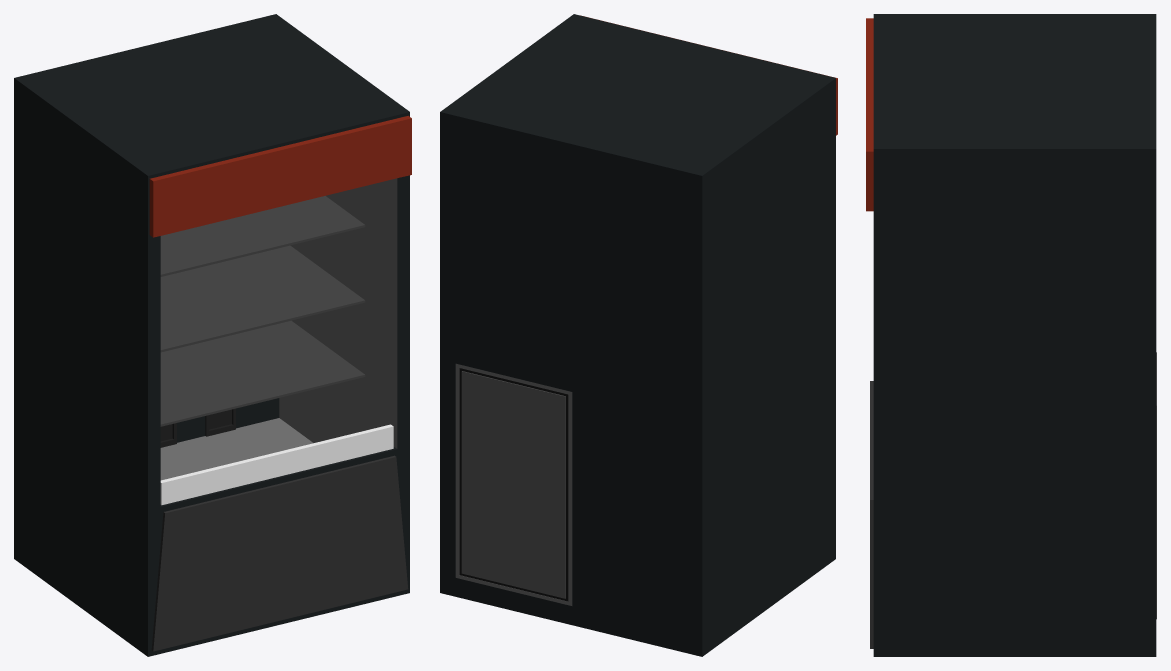
File: Open Cooler #1.fbx
3 views of the same model, side by side, from view 1: azimuth 30°, elevation 25°; view 2: azimuth 150°, elevation 25°; view 3: azimuth 270°, elevation 25° (orthographic). The views are drawn at different scales.
Parts seen in each view (by area): view 1: Open Cooler #1; view 2: Open Cooler #1; view 3: Open Cooler #1.
Boxes of the visible parts, x1,y1,x2,y2 form: Open Cooler #1: [14, 14, 411, 656]; Open Cooler #1: [440, 14, 837, 656]; Open Cooler #1: [866, 14, 1156, 656].
Bounding box in the file's own units: 102 × 179 × 93.11.
3 materials, 2 textured.
